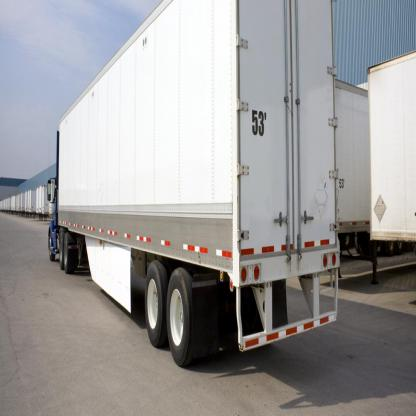normal-truck: (45, 0, 346, 373)
